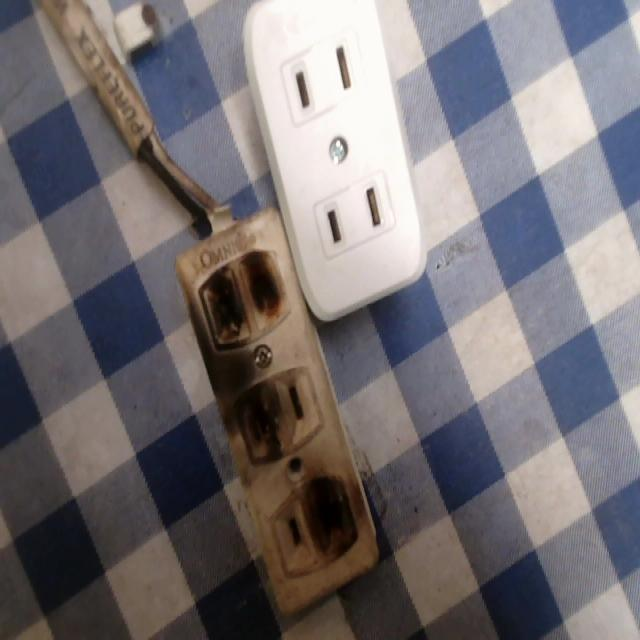-: (193, 242, 291, 338), (302, 473, 360, 563), (226, 380, 285, 460)
